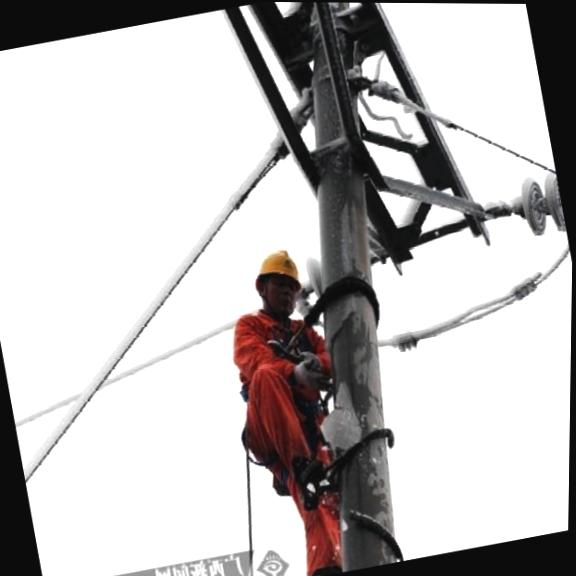no_safety_vest: (224, 308, 336, 435)
